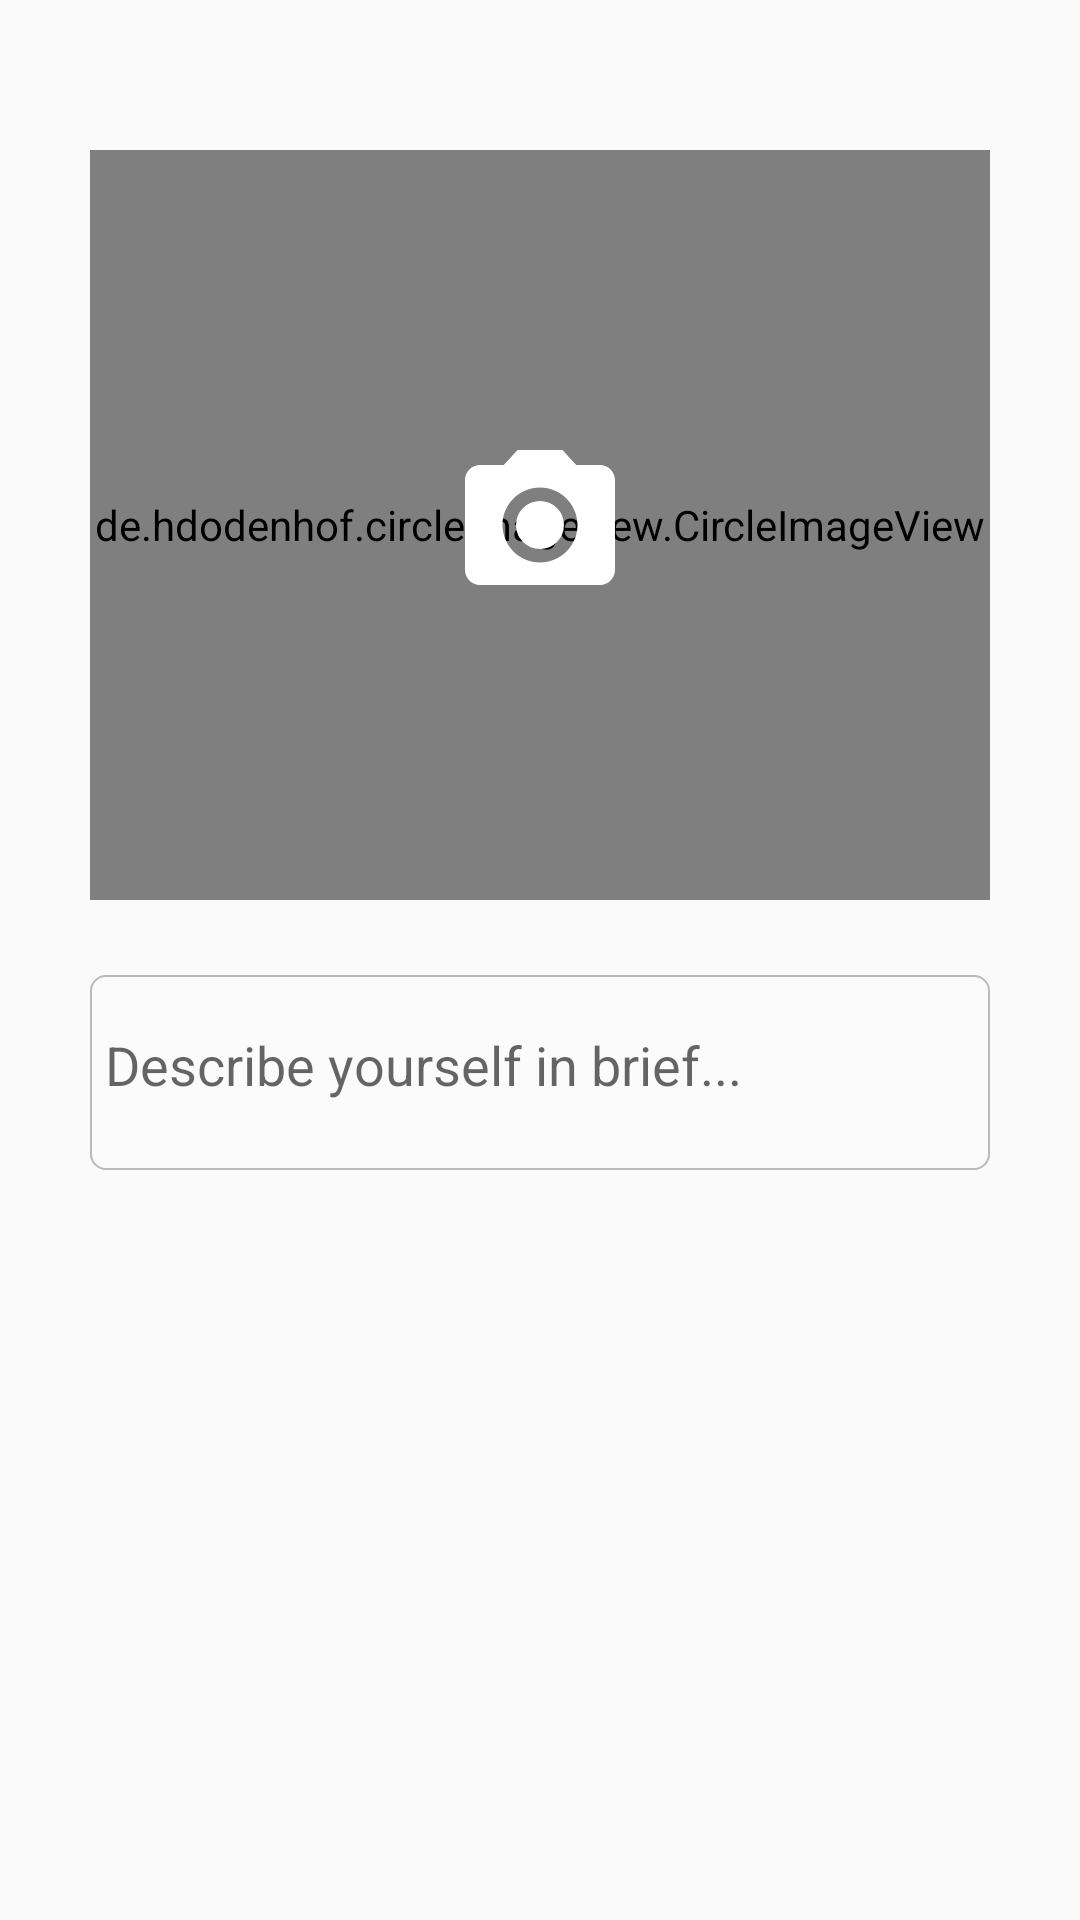

Icon bounding boxes for this 1080px x 1920px phone screenshot, format bbox(x1, y1, x2, y2):
camera: bbox(450, 450, 630, 585)
